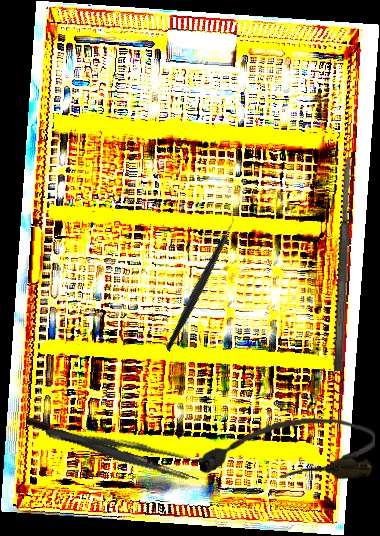Cannula: (197, 414, 377, 485)
Chopper: (126, 209, 273, 352)
Dressing Forceps: (43, 419, 205, 483)
Hook Surgical: (24, 416, 202, 481)
Spatula Surgical: (331, 156, 356, 372)
